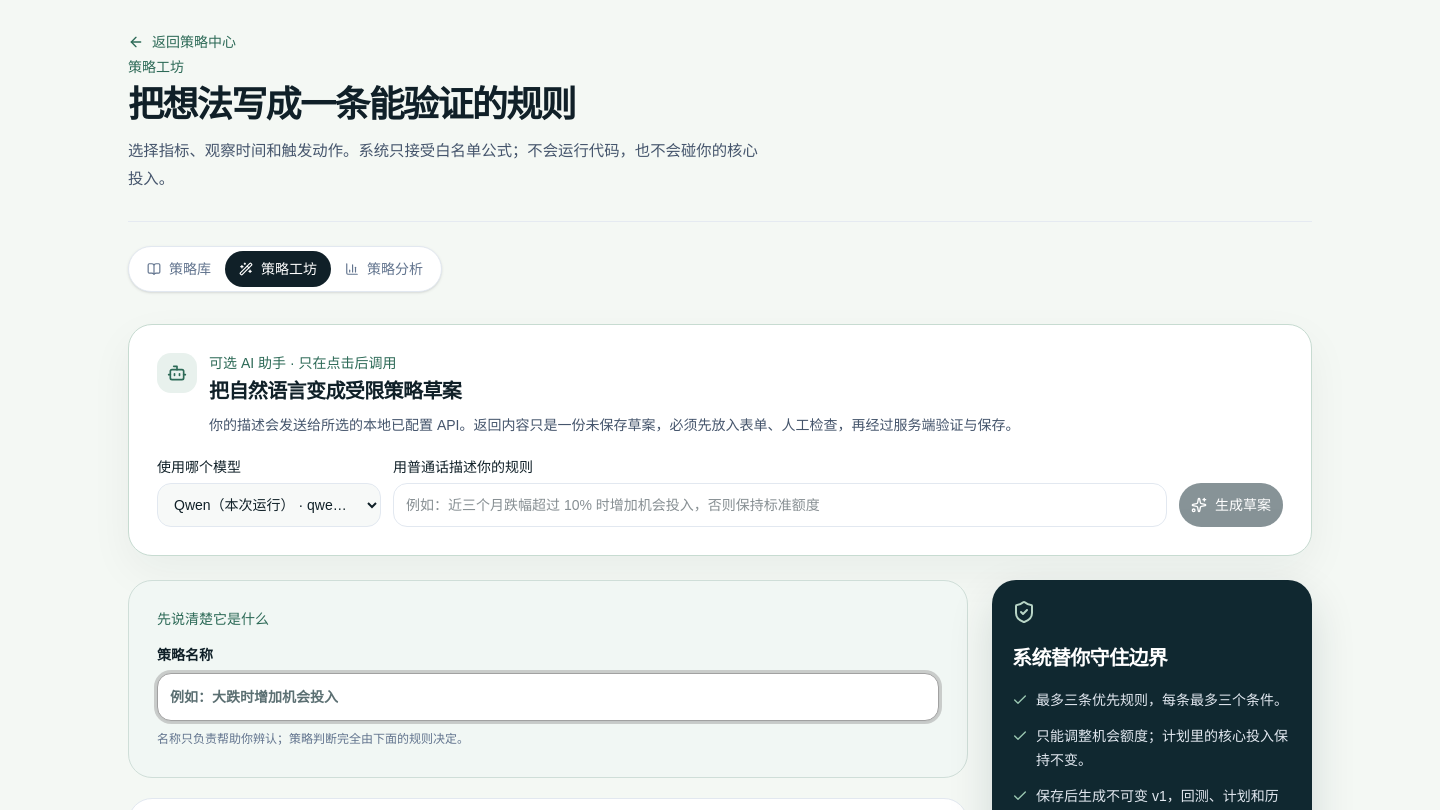
Scenario: personal strategy builder page › explains an unavailable AI provider without exposing the raw API envelope
Type "三个月跌幅超过 20% 时增加投入" into the field named "策略自然语言描述" at (780, 505), box x1=393 y1=483 x2=1167 y2=527
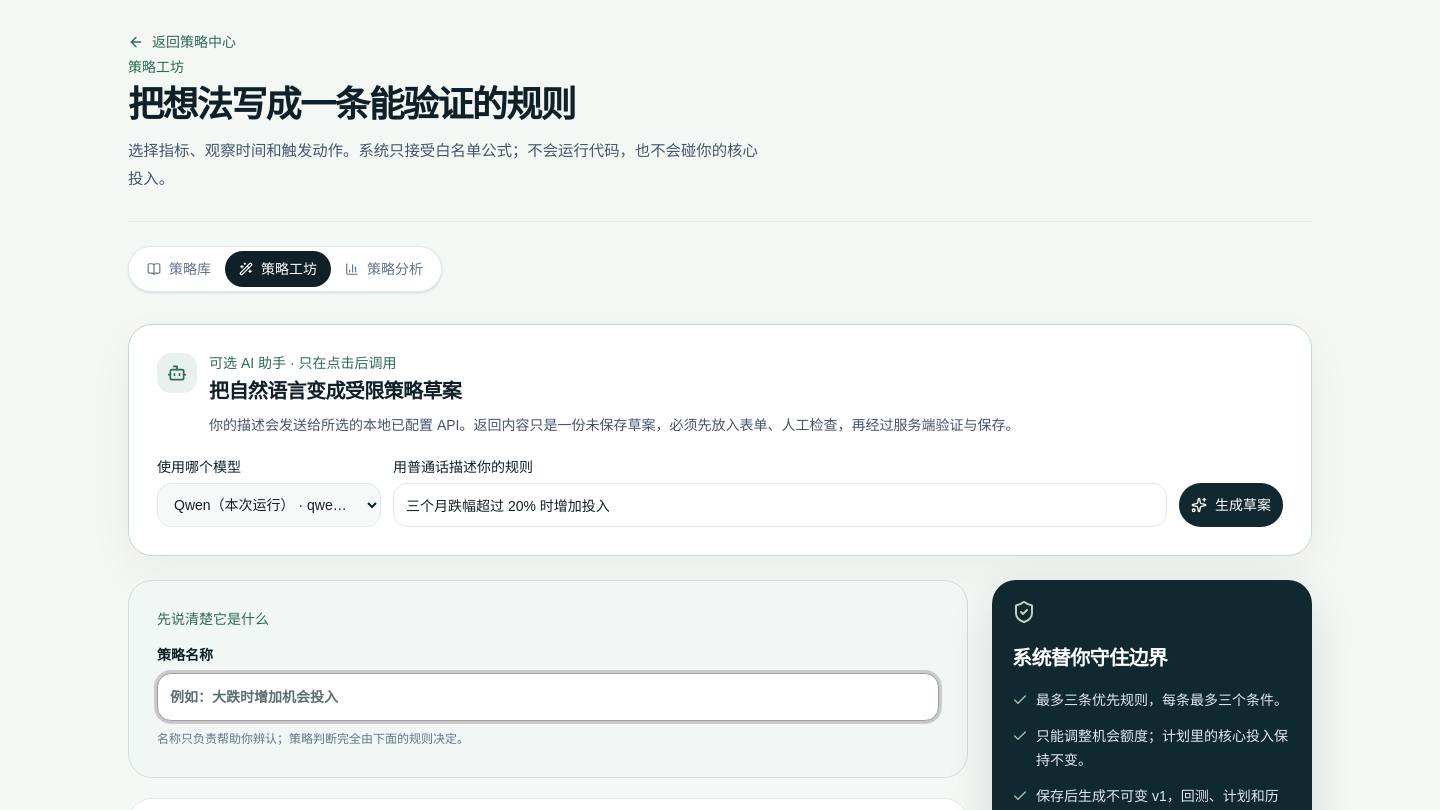
Click the button "生成草案" at (1231, 505), box x1=1179 y1=483 x2=1283 y2=527
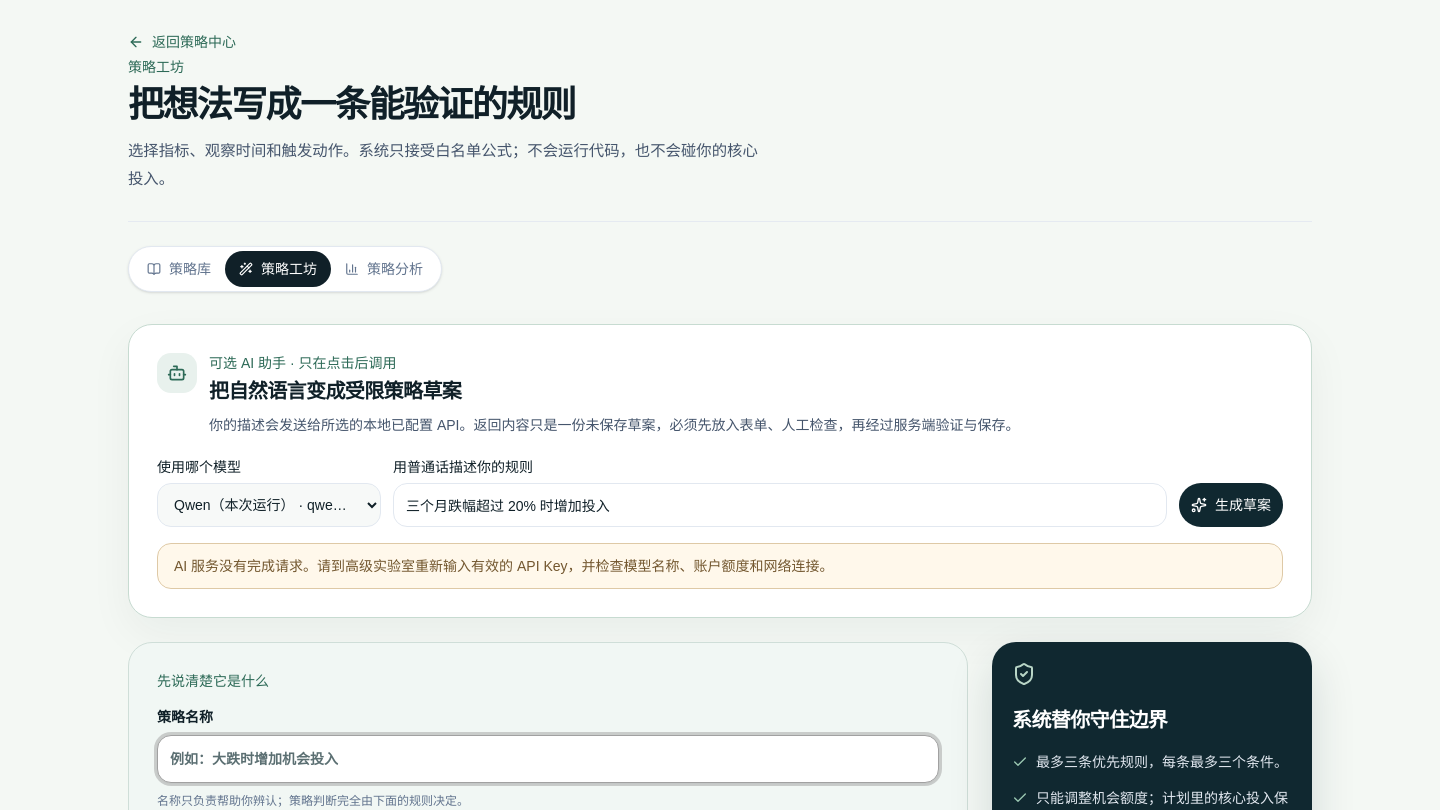
Check: the text "AI 服务没有完成请求。请到高级实验室重新输入有效的 API Key，并检查模型名称、账户额度和网络连接。" is shown, box x1=157 y1=543 x2=1283 y2=589
